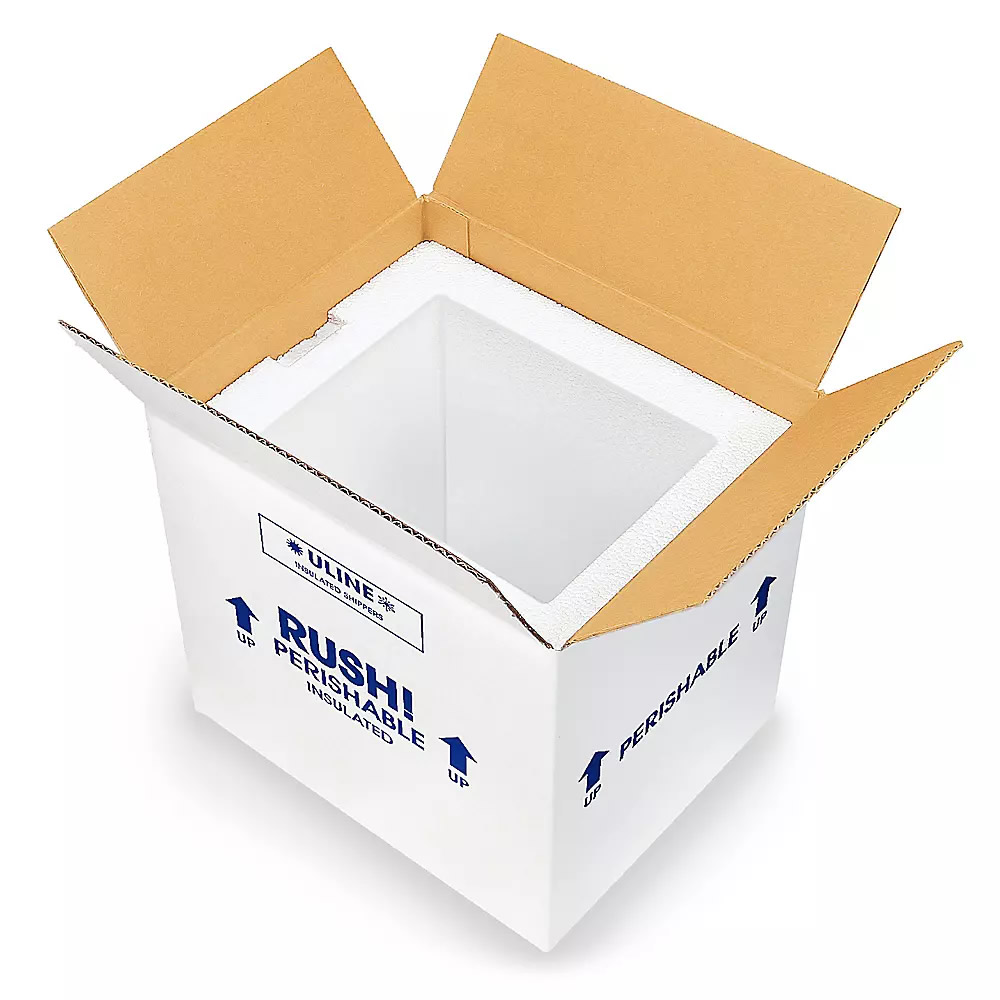Boxes: (210, 242, 786, 644)
